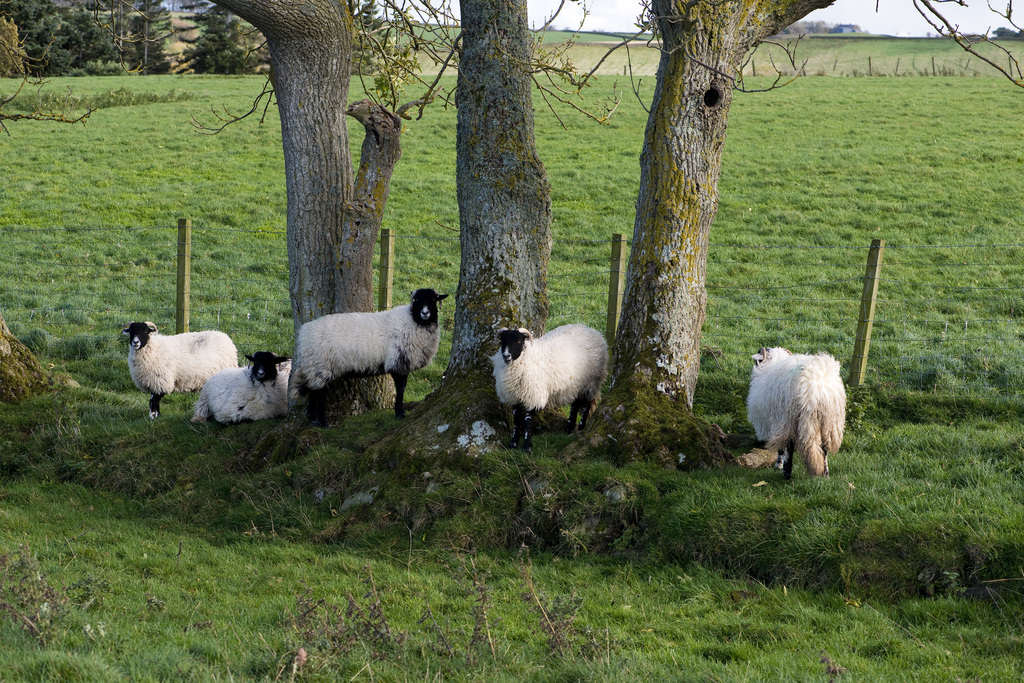sheep: (295, 291, 444, 412), (741, 345, 846, 476), (486, 323, 609, 434)
